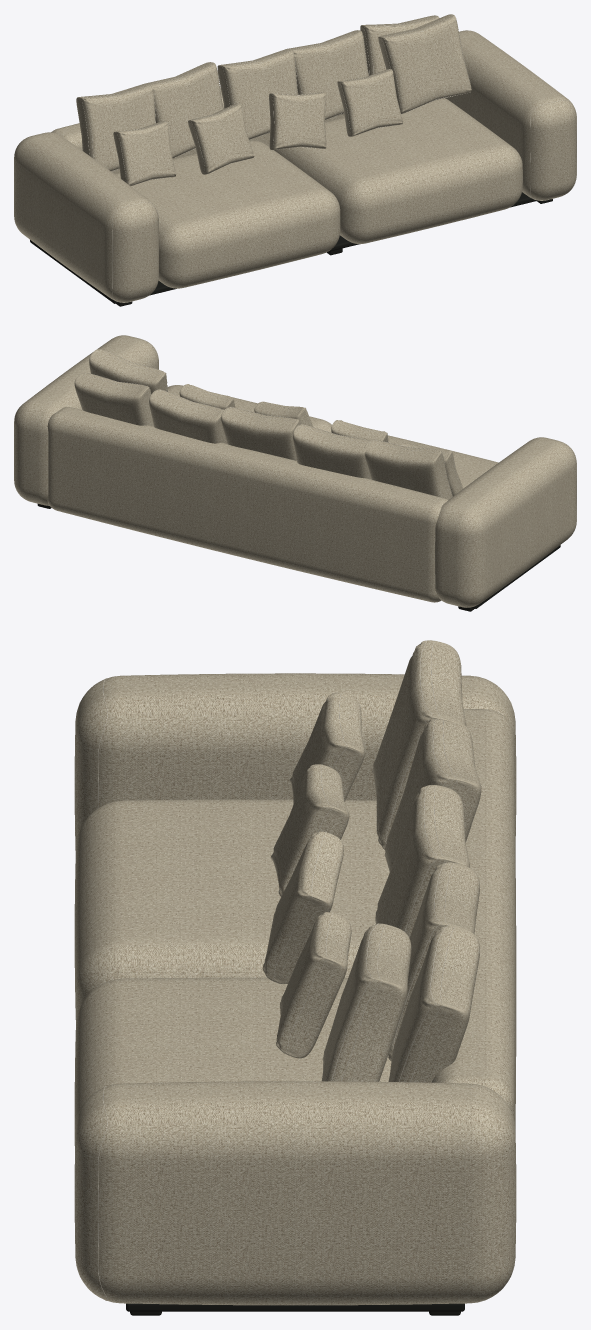
Rendered from straight.glb.
The picture shows the model from 3 angles, top to bottom: view 1: azimuth 30°, elevation 25°; view 2: azimuth 150°, elevation 25°; view 3: azimuth 270°, elevation 25°; orthographic projection. The views are drawn at different scales.
Visible parts, largest first — view 1: fabric, pillows, trim (×2); view 2: fabric, pillows, trim; view 3: fabric, pillows, trim (×2).
Boxes of the visible parts, left/top/right/bottom form: fabric: left=14, top=14, right=576, bottom=302; pillows: left=113, top=69, right=402, bottom=185; trim (×2): left=30, top=16, right=576, bottom=303; fabric: left=14, top=335, right=576, bottom=607; pillows: left=179, top=384, right=463, bottom=496; trim: left=83, top=335, right=576, bottom=524; fabric: left=74, top=640, right=516, bottom=1305; pillows: left=262, top=692, right=364, bottom=1058; trim (×2): left=98, top=641, right=464, bottom=1311.
Bounding box in the file's own units: 3.2 × 0.9782 × 1.3.
3 materials, 1 textured.
